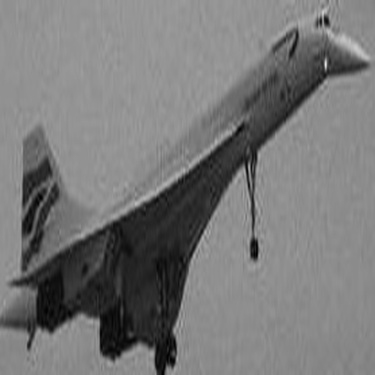airplane: (10, 12, 360, 346)
